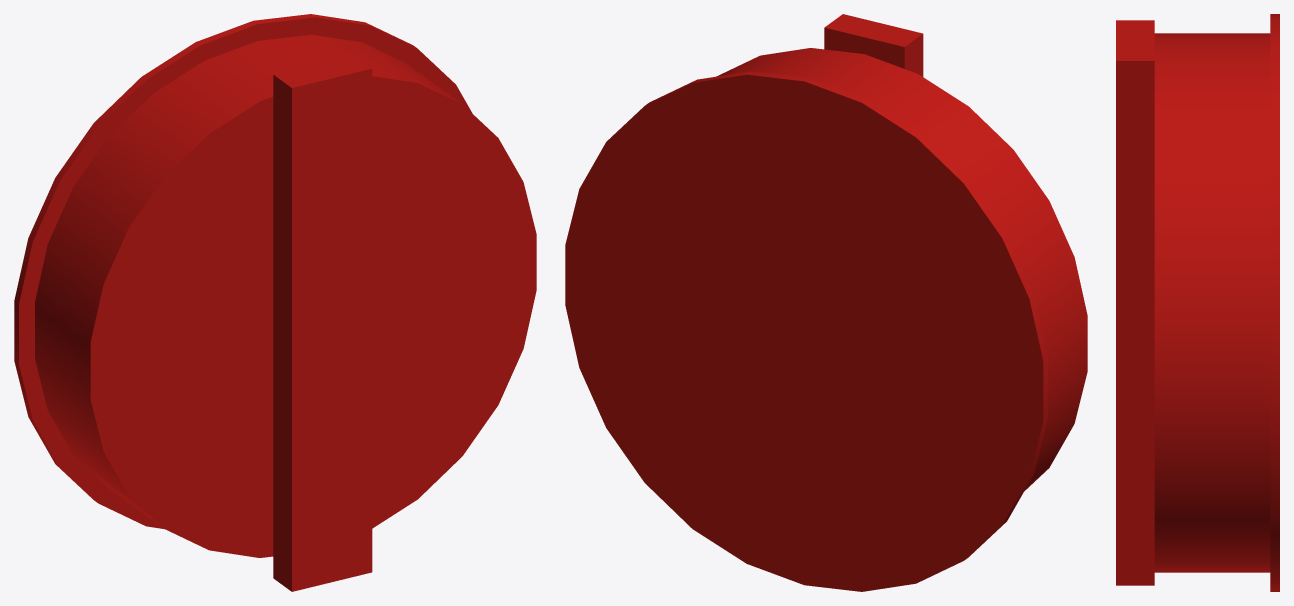
The model's file is services.device.hose_reel.glb.
3 views of the same model, side by side, from view 1: azimuth 30°, elevation 25°; view 2: azimuth 150°, elevation 25°; view 3: azimuth 270°, elevation 25° (orthographic). The views are drawn at different scales.
Parts seen in each view (by area): view 1: main__plastic_red; view 2: main__plastic_red; view 3: main__plastic_red.
Boxes of the visible parts, box(x1,y1,x2,y2) form: main__plastic_red: box(14, 14, 536, 591); main__plastic_red: box(565, 14, 1087, 591); main__plastic_red: box(1116, 14, 1279, 591).
Bounding box in the file's own units: 0.5956 × 0.6 × 0.17.
